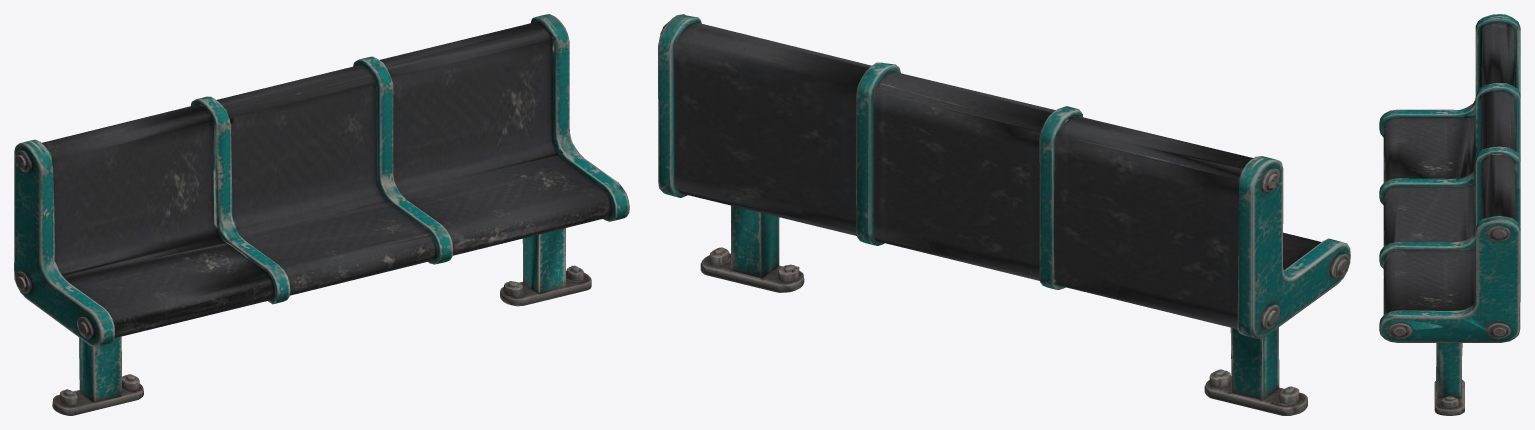
Rendered from bench-t25r1.glb.
The picture shows the model from 3 angles, left to right: view 1: azimuth 30°, elevation 25°; view 2: azimuth 150°, elevation 25°; view 3: azimuth 270°, elevation 25°; orthographic projection. The views are drawn at different scales.
Visible parts, largest first — view 1: bench-t25r1; view 2: bench-t25r1; view 3: bench-t25r1.
Part boxes in pixels (left/top/right/bottom): bench-t25r1: left=14, top=14, right=629, bottom=415; bench-t25r1: left=658, top=14, right=1350, bottom=415; bench-t25r1: left=1379, top=14, right=1520, bottom=415.
Size of the model in its own units: 1.8 by 0.769 by 0.506.
1 material, 1 textured.
